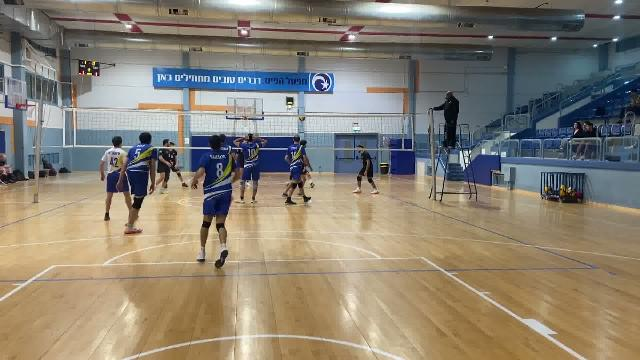ball: (297, 117, 308, 125)
